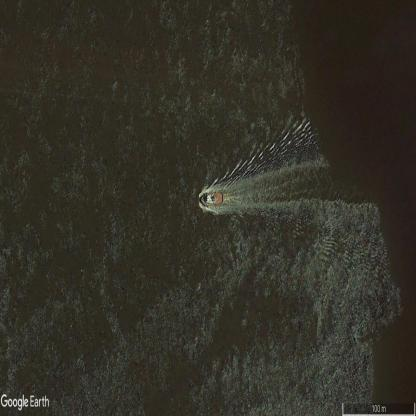ship: (200, 192, 223, 206)
